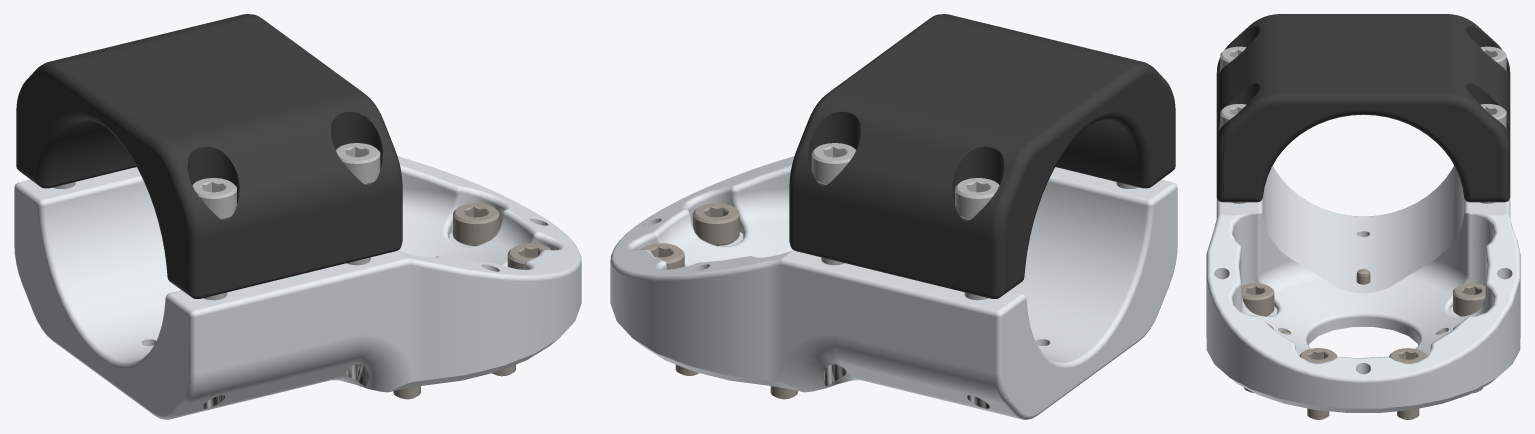
Rendered from A-2634-01_Input_Tube_Adapter_Size_55_to_Size_35.obj.
3 views of the same model, side by side, from view 1: azimuth 30°, elevation 25°; view 2: azimuth 150°, elevation 25°; view 3: azimuth 270°, elevation 25° (orthographic). The views are drawn at different scales.
Visible parts, largest first — view 1: mesh 2 Fillet29 face, mesh 4 PM-3232-01-1, mesh 3 PP-2410-25-1, mesh 5 Fillet2, mesh 1 PM-3242-01-1; view 2: mesh 2 Fillet29 face, mesh 4 PM-3232-01-1, mesh 3 PP-2410-25-1, mesh 5 Fillet2, mesh 1 PM-3242-01-1; view 3: mesh 2 Fillet29 face, mesh 4 PM-3232-01-1, mesh 5 Fillet2, mesh 3 PP-2410-25-1.
Part boxes in pixels (x1,y1,x2,y2): mesh 2 Fillet29 face: (14, 156, 581, 419); mesh 4 PM-3232-01-1: (16, 14, 402, 298); mesh 3 PP-2410-25-1: (53, 143, 380, 300); mesh 5 Fillet2: (393, 203, 551, 399); mesh 1 PM-3242-01-1: (202, 364, 368, 408); mesh 2 Fillet29 face: (610, 156, 1177, 419); mesh 4 PM-3232-01-1: (789, 14, 1175, 298); mesh 3 PP-2410-25-1: (811, 143, 1138, 300); mesh 5 Fillet2: (640, 203, 797, 399); mesh 1 PM-3242-01-1: (823, 364, 989, 408); mesh 2 Fillet29 face: (1206, 165, 1520, 412); mesh 4 PM-3232-01-1: (1216, 14, 1510, 202); mesh 5 Fillet2: (1241, 269, 1485, 419); mesh 3 PP-2410-25-1: (1220, 46, 1506, 203).
Bounding box in the file's own units: 0.095 × 0.06 × 0.0696.
